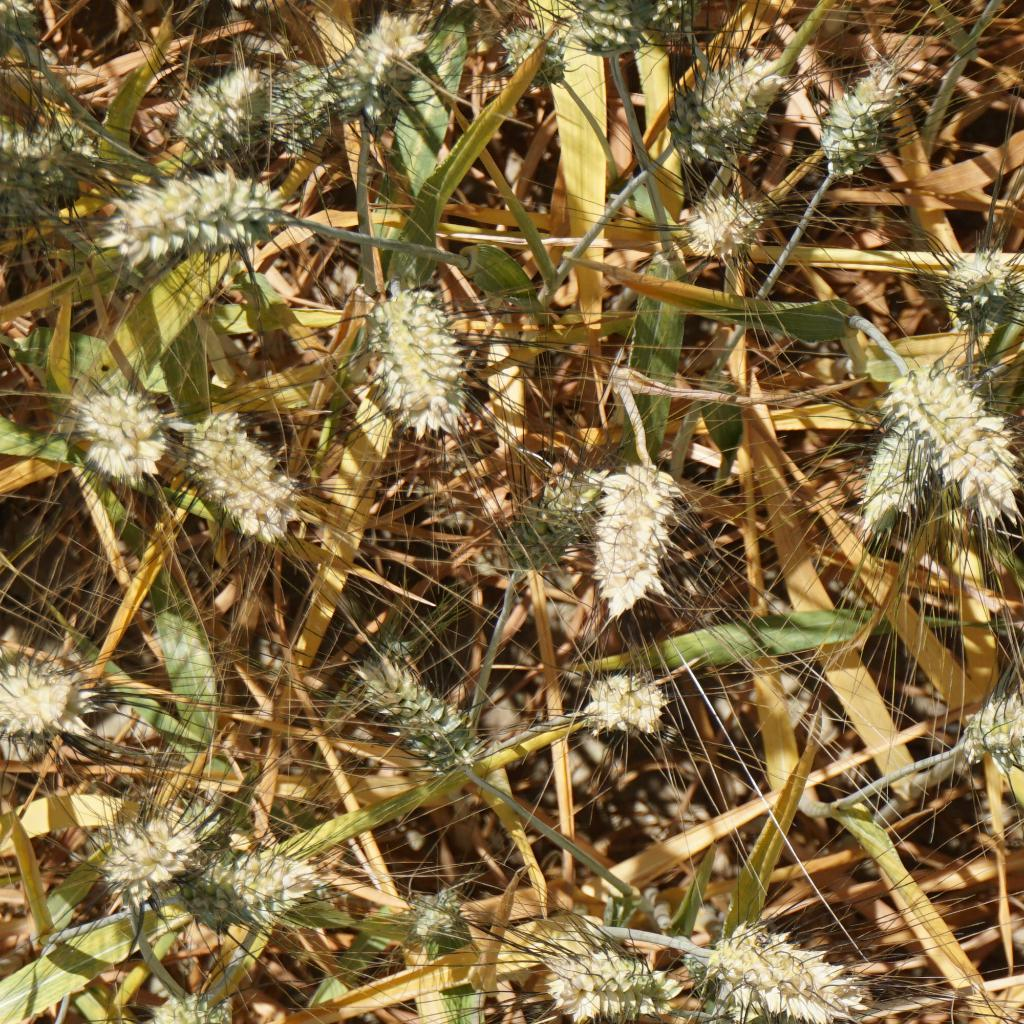0-0: (893, 364, 1019, 510), (183, 404, 314, 544), (107, 168, 284, 251), (368, 295, 468, 434), (361, 652, 479, 760), (596, 455, 678, 596), (331, 1, 422, 125), (717, 937, 848, 1021), (183, 841, 311, 926), (159, 54, 266, 141), (80, 376, 163, 483), (549, 946, 671, 1018), (669, 73, 771, 154), (864, 419, 937, 530), (808, 76, 896, 163), (0, 657, 90, 739), (671, 187, 778, 254), (499, 487, 576, 578), (943, 240, 1024, 321), (114, 807, 195, 885), (3, 102, 88, 172), (958, 687, 1024, 765), (271, 62, 336, 141), (491, 32, 576, 90), (592, 670, 662, 738), (393, 885, 476, 941), (570, 0, 636, 60), (634, 1, 701, 52), (0, 0, 53, 52), (0, 123, 35, 200), (178, 995, 257, 1024), (143, 997, 202, 1024), (1000, 1012, 1024, 1024)
